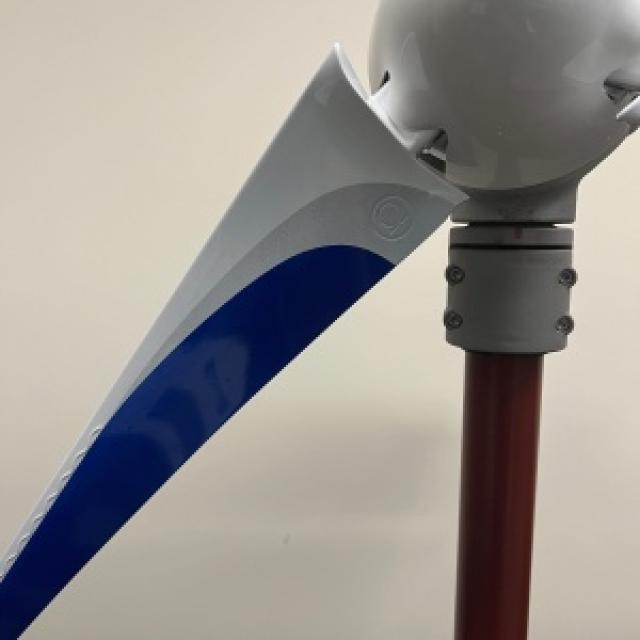healthy: (19, 222, 461, 638)
